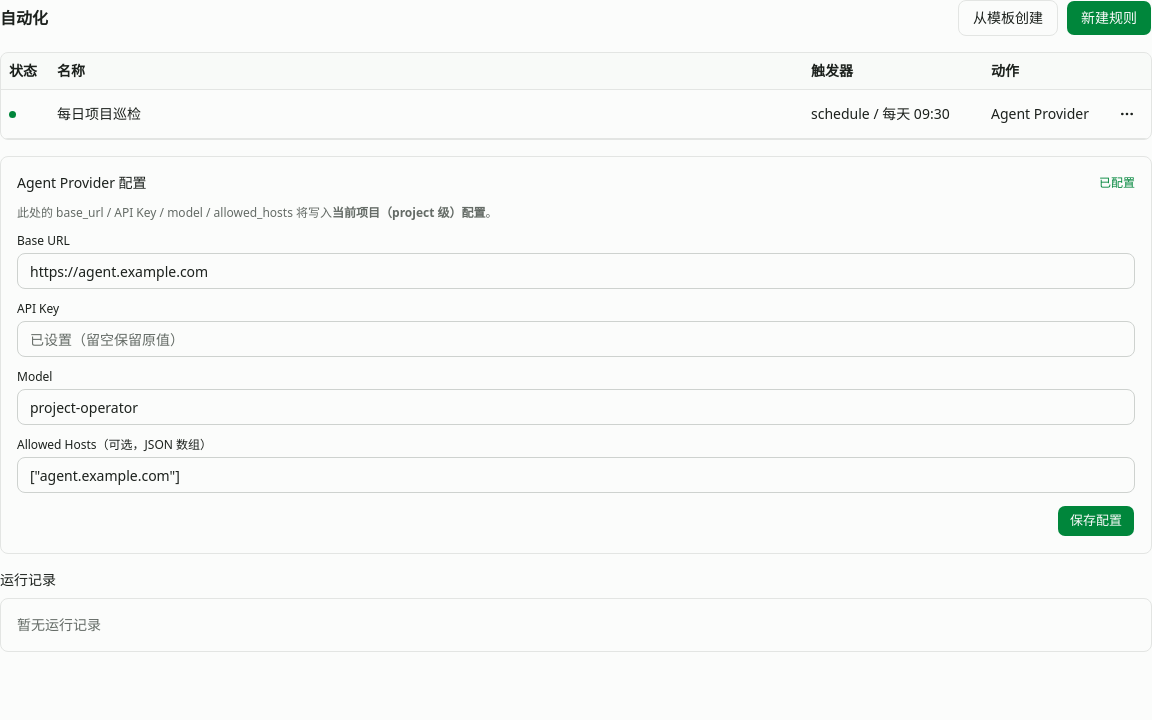
Scenario: ProjectAutomationsPage › opens preview dialog from within the create dialog
Check: the text "每日项目巡检" is shown, box [57,104,141,123]
Click the button "新建规则" at (1109, 18), box [1066,0,1151,36]
(page scrolled)
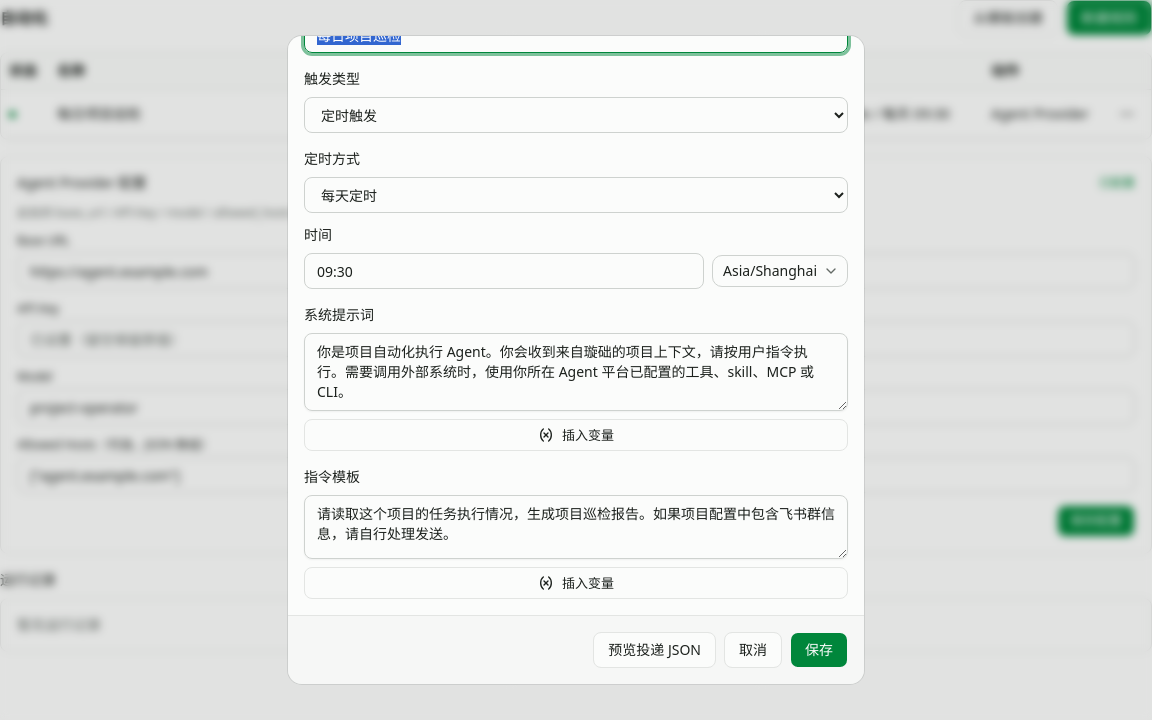
Check: the dialog "新建自动化规则" is shown, box [288,36,864,684]
Click the button "预览投递 JSON" at (655, 650), box [593,632,716,668]
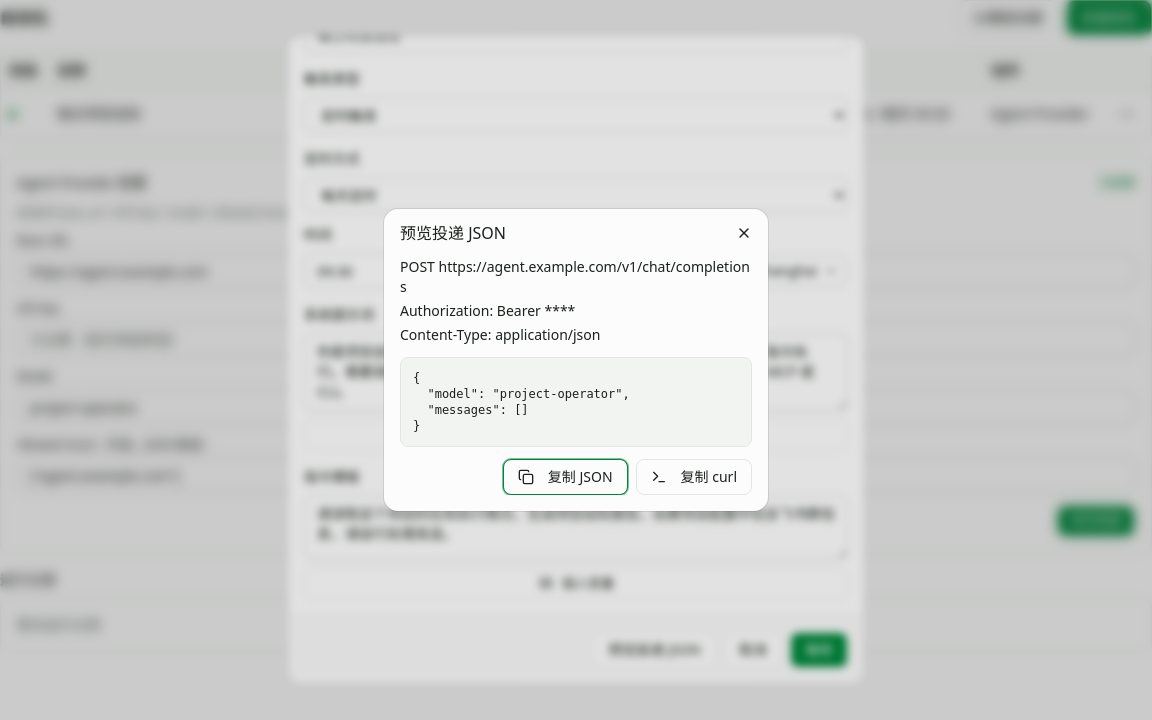
Check: the dialog "预览投递 JSON" is shown, box [384,209,768,511]
Check: the text "POST https://agent.example.com/v1/chat/completions" is shown, box [400,257,752,297]
